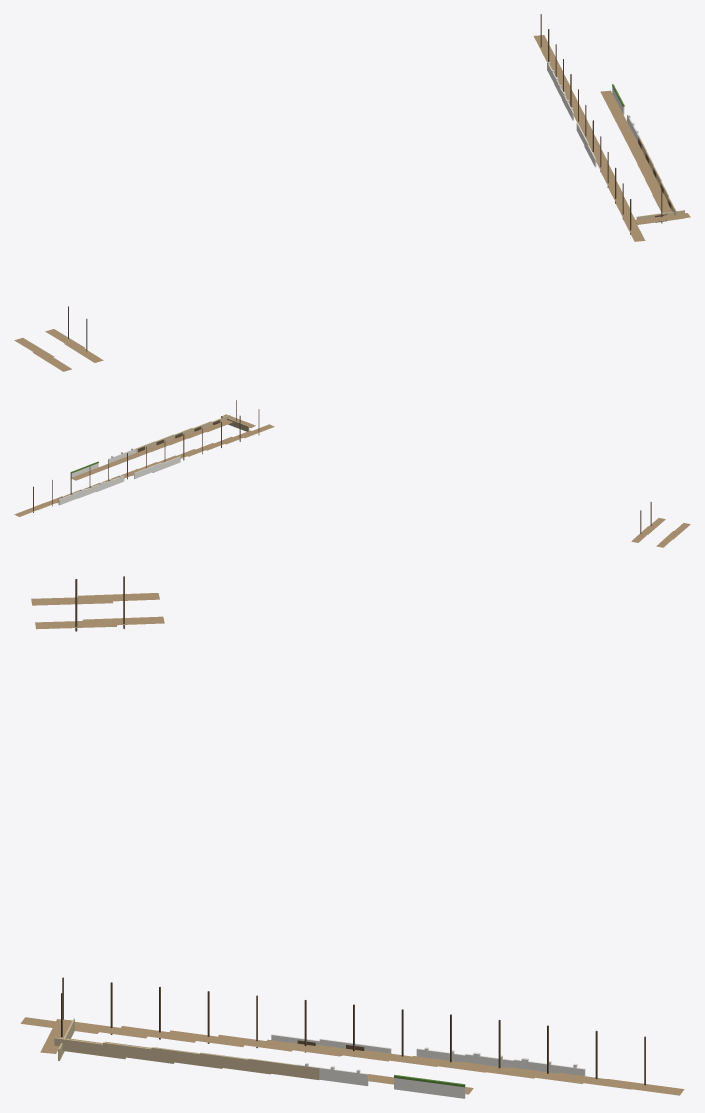
The model's file is noord_res_-15_-12.glb.
The picture shows the model from 3 angles, top to bottom: view 1: azimuth 30°, elevation 25°; view 2: azimuth 150°, elevation 25°; view 3: azimuth 270°, elevation 25°; orthographic projection. The views are drawn at different scales.
Visible parts, largest first — view 1: noord_res_-15_-12_lod0; view 2: noord_res_-15_-12_lod0; view 3: noord_res_-15_-12_lod0.
Part boxes in pixels (x1,y1,x2,y2): noord_res_-15_-12_lod0: [14, 14, 690, 371]; noord_res_-15_-12_lod0: [14, 400, 690, 547]; noord_res_-15_-12_lod0: [20, 576, 684, 1098].
Size of what is drawn, in the model's own units: 177 by 11.6 by 98.2.
